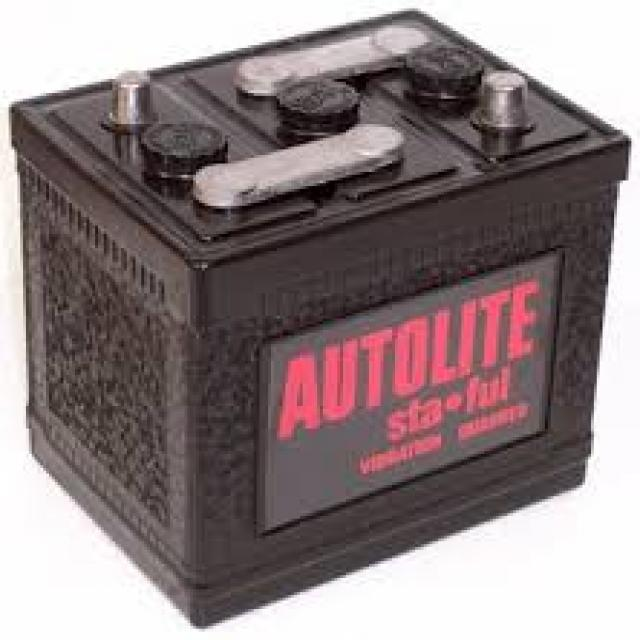non-organic waste: (8, 10, 634, 630)
